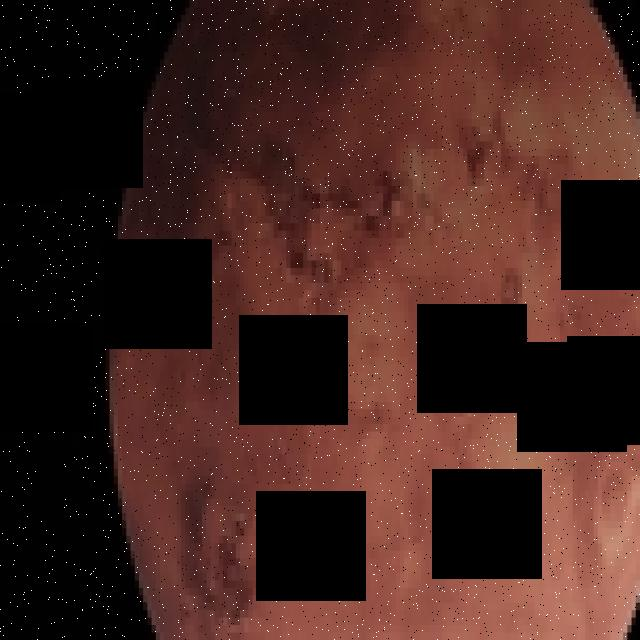Mars: (110, 0, 640, 640)
